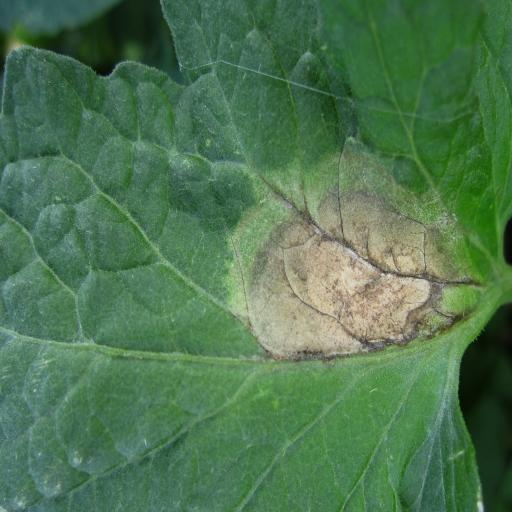Late Blight: (4, 8, 508, 496)
